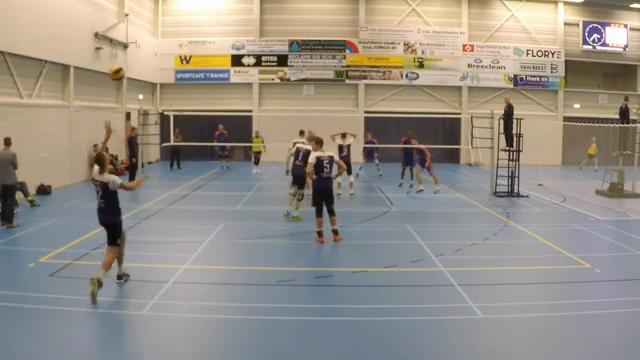Player: (306, 137, 345, 243), (284, 143, 311, 220), (331, 132, 355, 196), (355, 133, 381, 177), (416, 145, 439, 193), (398, 131, 414, 187), (252, 130, 265, 173), (288, 129, 310, 152), (289, 129, 307, 151), (216, 145, 229, 169)
Serve: (77, 117, 154, 305)
ball: (109, 64, 125, 83)
